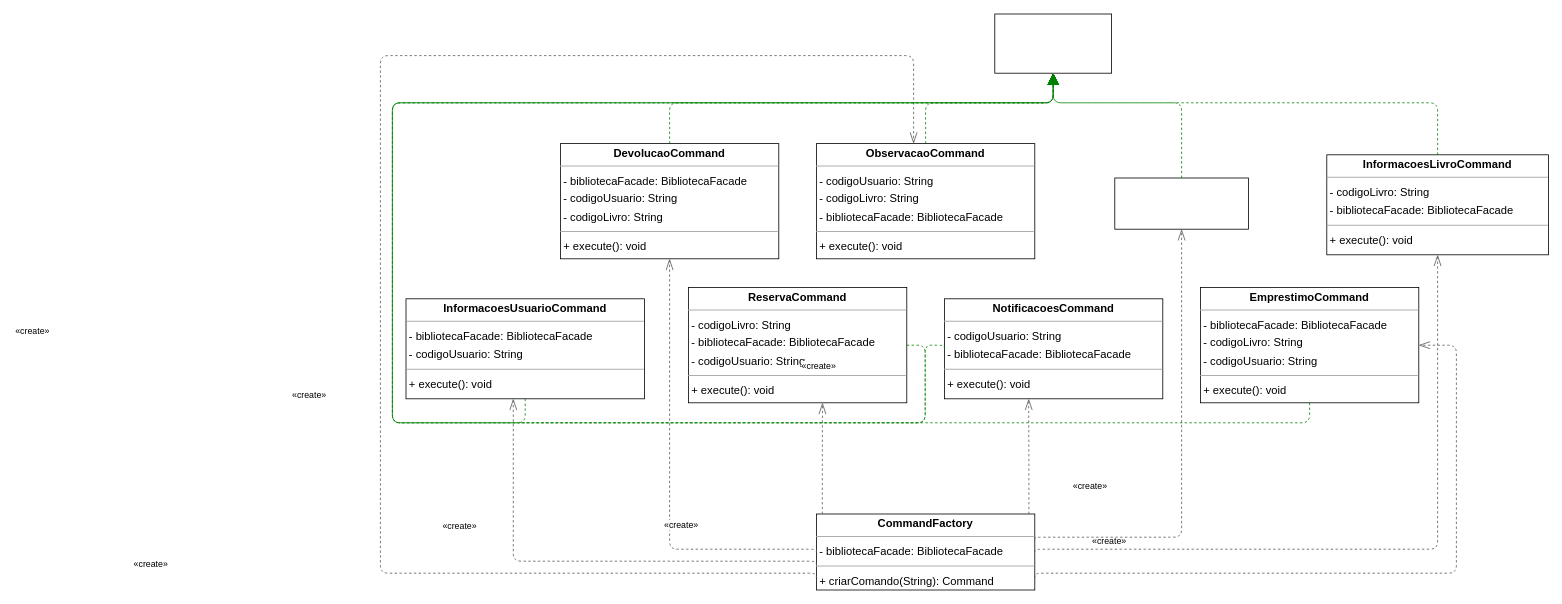
Image size: 1562x604. Some labels were removed from this diagram. Each missing label, with the centre of its shape:
<<interface>> Command + execute(): void: (x=1053, y=43)
SairCommand + execute(): void: (x=1181, y=203)
